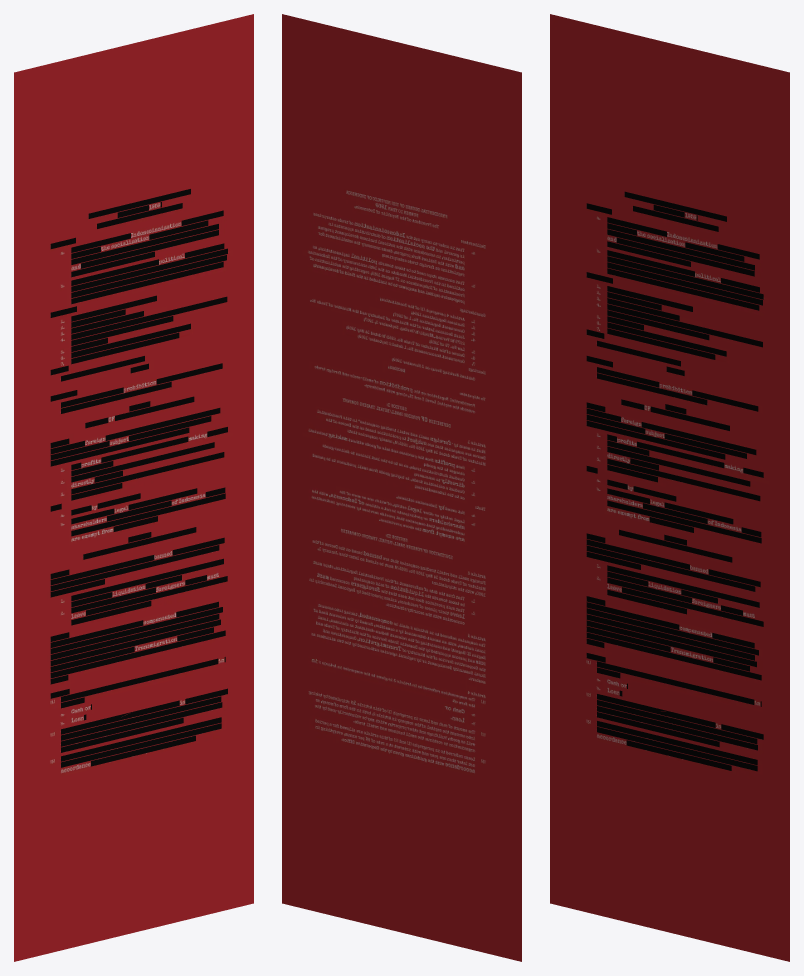
Rendered from page9-01.glb.
3 renders of one model, left to right at view 1: azimuth 30°, elevation 25°; view 2: azimuth 150°, elevation 25°; view 3: azimuth 330°, elevation 25°, orthographic.
Parts seen in each view (by area): view 1: BG_0.002, p9.003; view 2: BG_0.002; view 3: BG_0.002, p9.003.
Part boxes in pixels (bbox=[...]): BG_0.002: bbox=[14, 14, 253, 961]; p9.003: bbox=[50, 189, 227, 767]; BG_0.002: bbox=[282, 14, 521, 961]; BG_0.002: bbox=[550, 14, 789, 961]; p9.003: bbox=[586, 191, 763, 771].
Size of the model in its own units: 0.5841 by 2.07 by 0.000254.
Materials: 2 (1 with a texture image).
